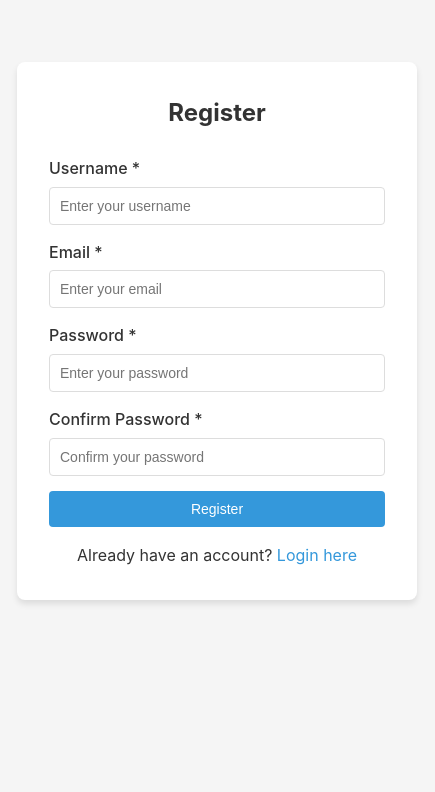
Scenario: Register Component › validates username length
This screenshot has width=435, height=792.
Step 1. Type "ab" into the field labelled "Username *" → (217, 206), box 49,187 -> 385,225
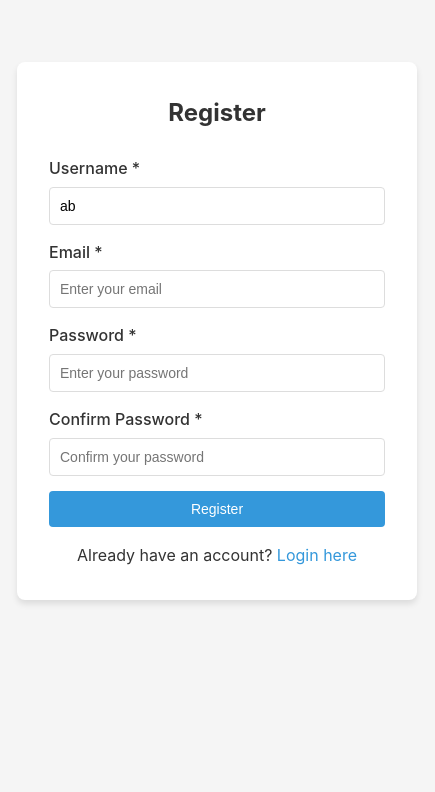
Step 2. Click the button "Register" → (217, 509), box 49,491 -> 385,527
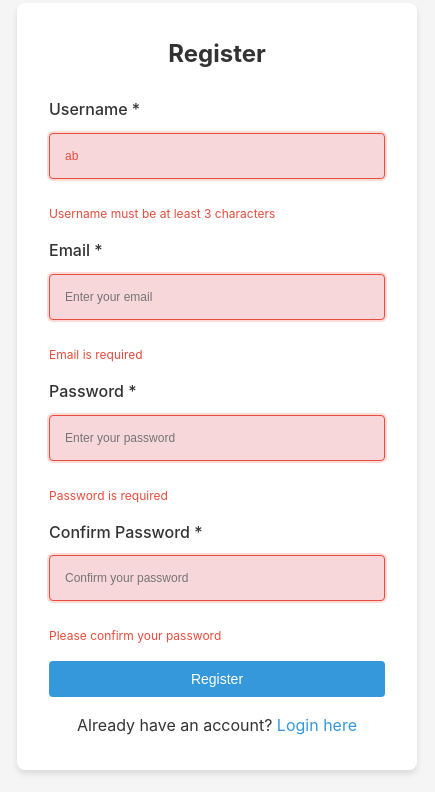
Expected: the text "Username must be at least 3 characters" is shown, 49,206 -> 275,221
